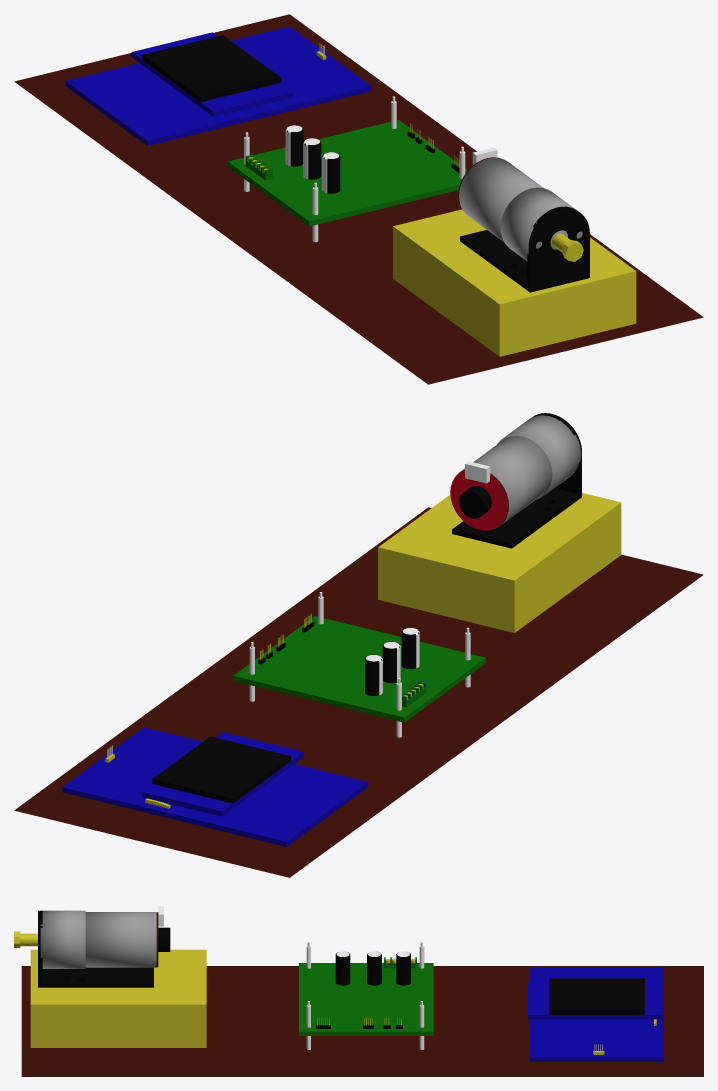
The model's file is main.glb.
3 views of the same model, one above another, from view 1: azimuth 30°, elevation 25°; view 2: azimuth 150°, elevation 25°; view 3: azimuth 270°, elevation 25° (orthographic). The views are drawn at different scales.
Visible parts, largest first — view 1: Plane, cude1, Cube.002, Cube, 3.001, Cube.004, 1, 1.001, Cube.003, Cylinder.016, Cylinder.014, Cylinder.015; view 2: Plane, cude1, Cube.002, Cube, Cube.004, 1, 3.001, 1.001, Cube.003, 5, 3, Cylinder.016 (+2 smaller); view 3: Plane, cude1, Cube, Cube.002, 1, Cube.004, 1.001, 3.001, Cube.003, Cylinder.016, Cylinder.015, Cylinder.014 (+1 smaller).
Boxes of the visible parts, bbox=[...] form: Plane: bbox=[14, 14, 703, 384]; cude1: bbox=[393, 209, 636, 356]; Cube.002: bbox=[65, 26, 371, 145]; Cube: bbox=[227, 120, 467, 226]; 3.001: bbox=[460, 206, 589, 292]; Cube.004: bbox=[142, 35, 281, 102]; 1: bbox=[459, 157, 543, 242]; 1.001: bbox=[500, 187, 582, 260]; Cube.003: bbox=[131, 32, 293, 116]; Cylinder.016: bbox=[322, 152, 340, 193]; Cylinder.014: bbox=[285, 125, 303, 166]; Cylinder.015: bbox=[303, 138, 321, 179]; Plane: bbox=[14, 507, 703, 877]; cude1: bbox=[378, 493, 621, 632]; Cube.002: bbox=[62, 727, 368, 846]; Cube: bbox=[233, 613, 486, 722]; Cube.004: bbox=[152, 736, 290, 803]; 1: bbox=[456, 436, 552, 528]; 3.001: bbox=[452, 413, 581, 548]; 1.001: bbox=[497, 415, 581, 498]; Cube.003: bbox=[141, 732, 303, 816]; 5: bbox=[450, 469, 508, 530]; 3: bbox=[459, 486, 491, 518]; Cylinder.016: bbox=[401, 627, 419, 669]; Plane: bbox=[21, 966, 703, 1076]; cude1: bbox=[30, 949, 206, 1047]; Cube: bbox=[299, 963, 433, 1035]; Cube.002: bbox=[529, 967, 663, 1061]; 1: bbox=[85, 912, 156, 967]; Cube.004: bbox=[549, 978, 644, 1014]; 1.001: bbox=[40, 910, 85, 968]; 3.001: bbox=[38, 910, 153, 987]; Cube.003: bbox=[528, 982, 662, 1019]; Cylinder.016: bbox=[335, 951, 350, 985]; Cylinder.015: bbox=[367, 951, 381, 985]; Cylinder.014: bbox=[396, 951, 410, 985].
Size of the model in its own units: 115 by 54.75 by 304.
